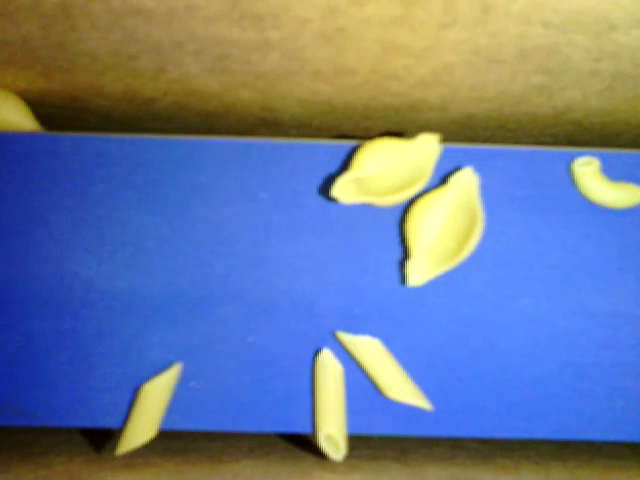elbow: (572, 155, 639, 208)
penne: (335, 330, 436, 408), (114, 361, 182, 456), (314, 345, 347, 460)
shell: (402, 165, 485, 288), (331, 131, 441, 207)
